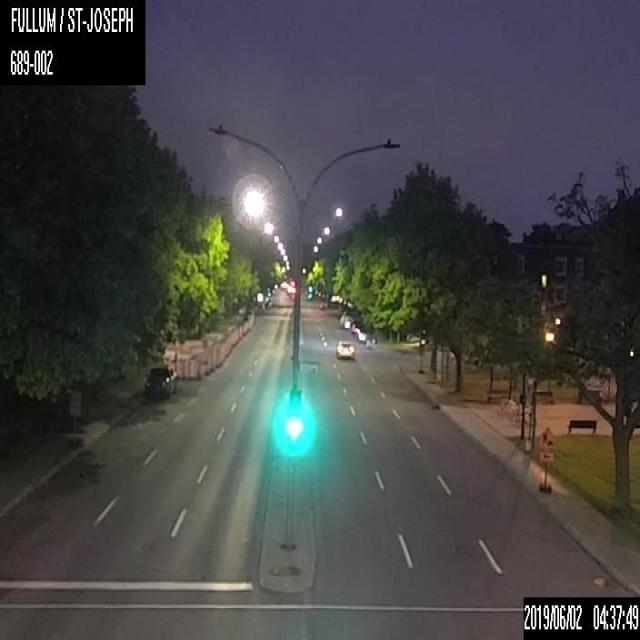construction: (536, 423, 554, 492), (194, 359, 202, 380), (203, 355, 210, 373), (188, 359, 194, 379), (209, 351, 215, 371), (180, 360, 186, 377)
vehicle: (141, 360, 176, 401), (334, 337, 354, 360)
